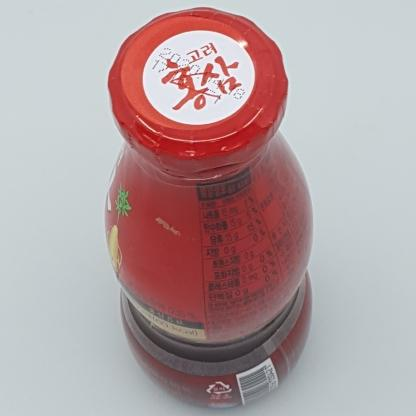------180ML: (104, 7, 313, 411)
